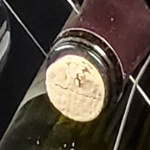bottle: (33, 35, 130, 137)
